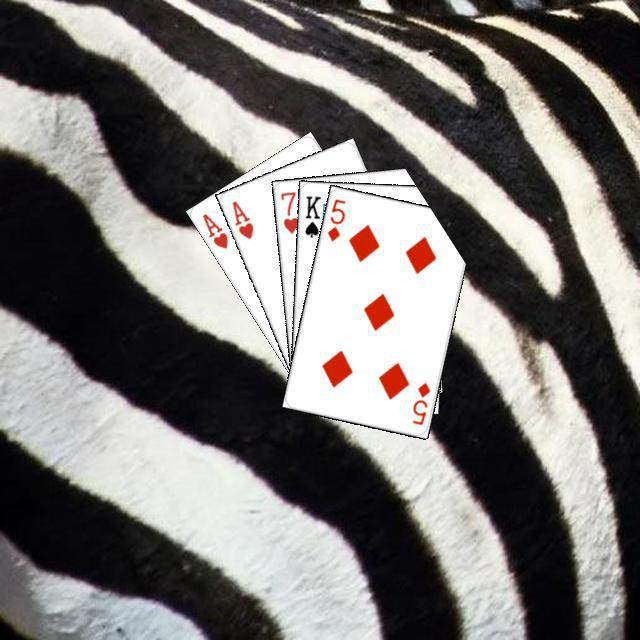5d: (407, 377, 432, 427), (322, 194, 347, 243)
7h: (276, 187, 300, 235)
Ah: (197, 209, 230, 250), (227, 196, 255, 241)
Ks: (300, 191, 322, 239)
